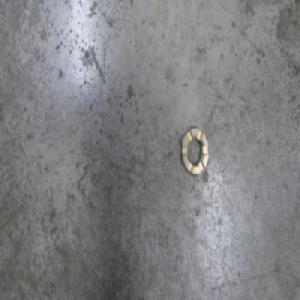Nut: (181, 123, 209, 178)
